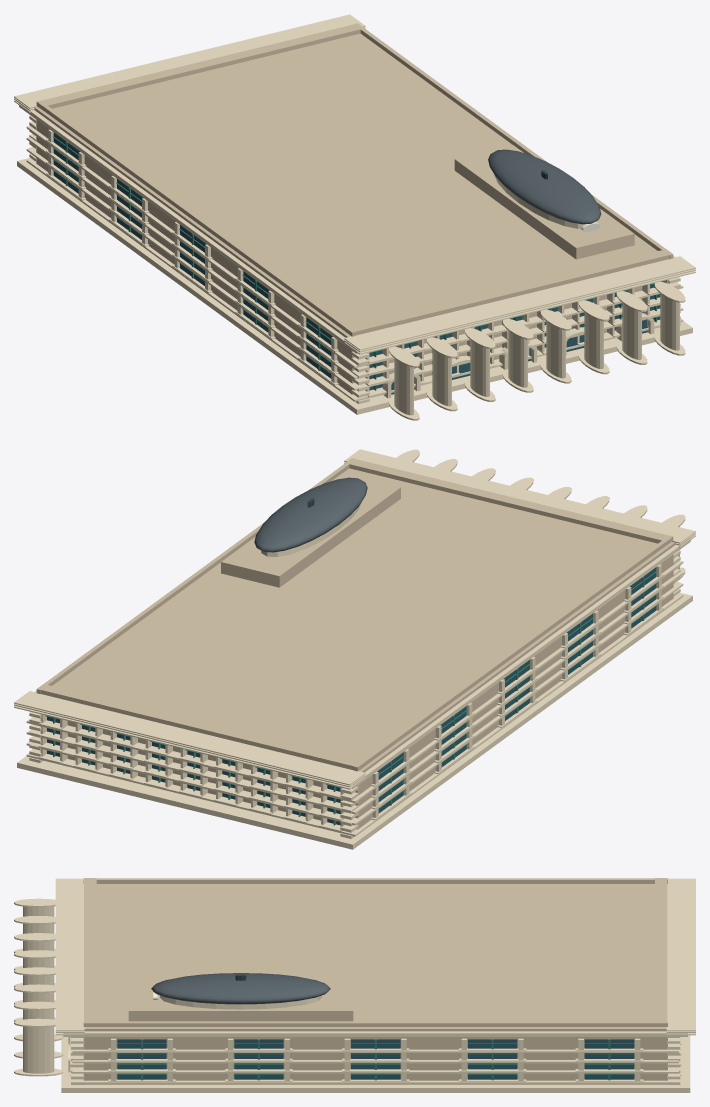
Rendered from postal-museum.glb.
The picture shows the model from 3 angles, top to bottom: view 1: azimuth 30°, elevation 25°; view 2: azimuth 150°, elevation 25°; view 3: azimuth 270°, elevation 25°; orthographic projection. The views are drawn at different scales.
Parts seen in each view (by area): view 1: postal-museum; view 2: postal-museum; view 3: postal-museum.
Part boxes in pixels (bbox=[...]): postal-museum: bbox=[14, 14, 695, 420]; postal-museum: bbox=[14, 449, 695, 849]; postal-museum: bbox=[14, 878, 695, 1092].
Size of the model in its own units: 58.54 by 17 by 111.
